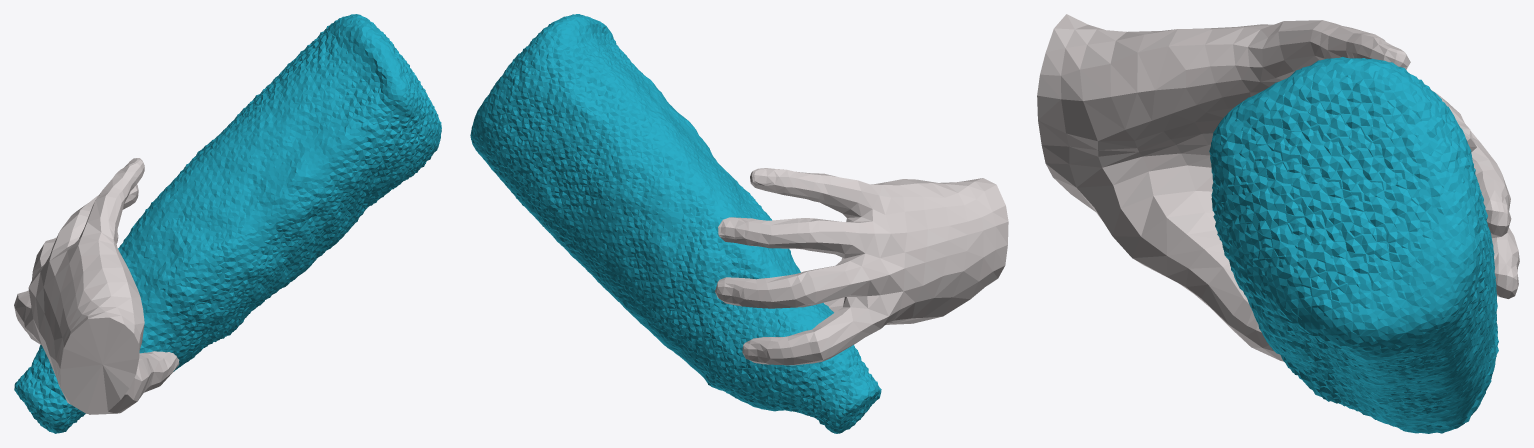
3 views of the same model, side by side, from view 1: azimuth 30°, elevation 25°; view 2: azimuth 150°, elevation 25°; view 3: azimuth 270°, elevation 25° (orthographic). The views are drawn at different scales.
Visible parts, largest first — view 1: world; view 2: world; view 3: world.
Boxes of the visible parts, x1,y1,x2,y2 form: world: (14, 14, 441, 433); world: (470, 14, 1008, 433); world: (1037, 14, 1519, 433).
Bounding box in the file's own units: 0.2895 × 0.2088 × 0.1603.
